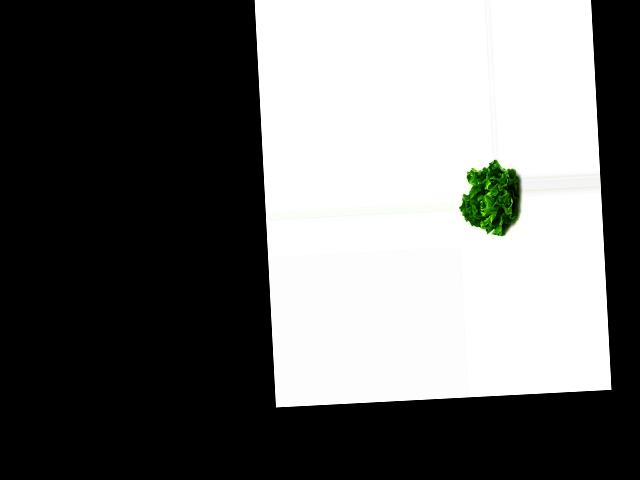lettuce: (457, 159, 523, 236)
